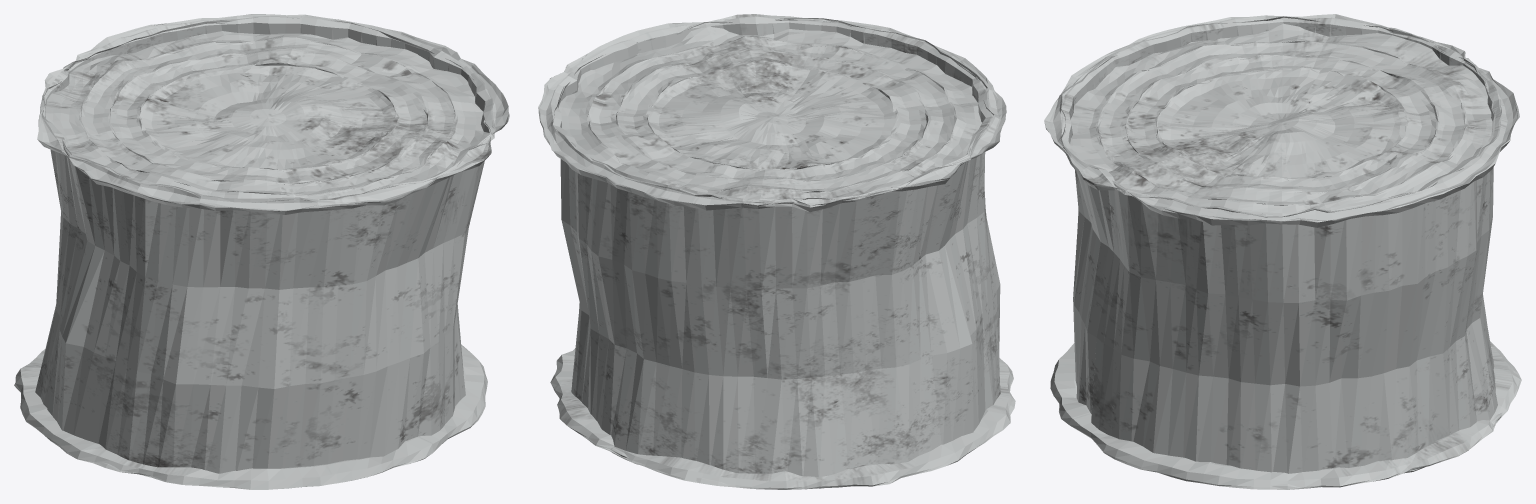
Rendered from crush_medium_1.obj.
3 renders of one model, left to right at view 1: azimuth 30°, elevation 25°; view 2: azimuth 150°, elevation 25°; view 3: azimuth 270°, elevation 25°, orthographic.
Visible parts, largest first — view 1: Cam_l__0; view 2: Cam_l__0; view 3: Cam_l__0.
Boxes of the visible parts, x1,y1,x2,y2 form: Cam_l__0: (14,14,509,489); Cam_l__0: (538,14,1015,489); Cam_l__0: (1044,14,1521,489).
Bounding box in the file's own units: 0.0994 × 0.0651 × 0.0967.
Materials: 1 (1 with a texture image).
